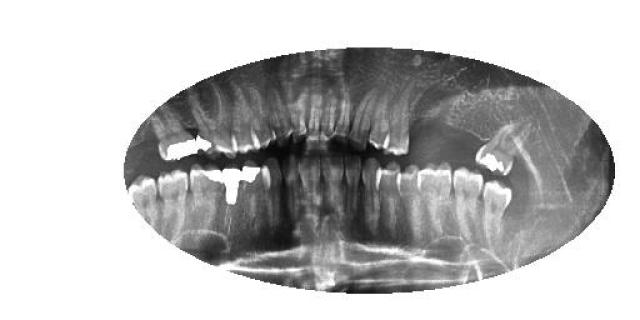Fillings: (190, 85, 238, 160), (477, 118, 532, 176), (150, 105, 196, 163), (192, 166, 222, 232), (240, 162, 261, 226)
Implant: (221, 169, 241, 236)
